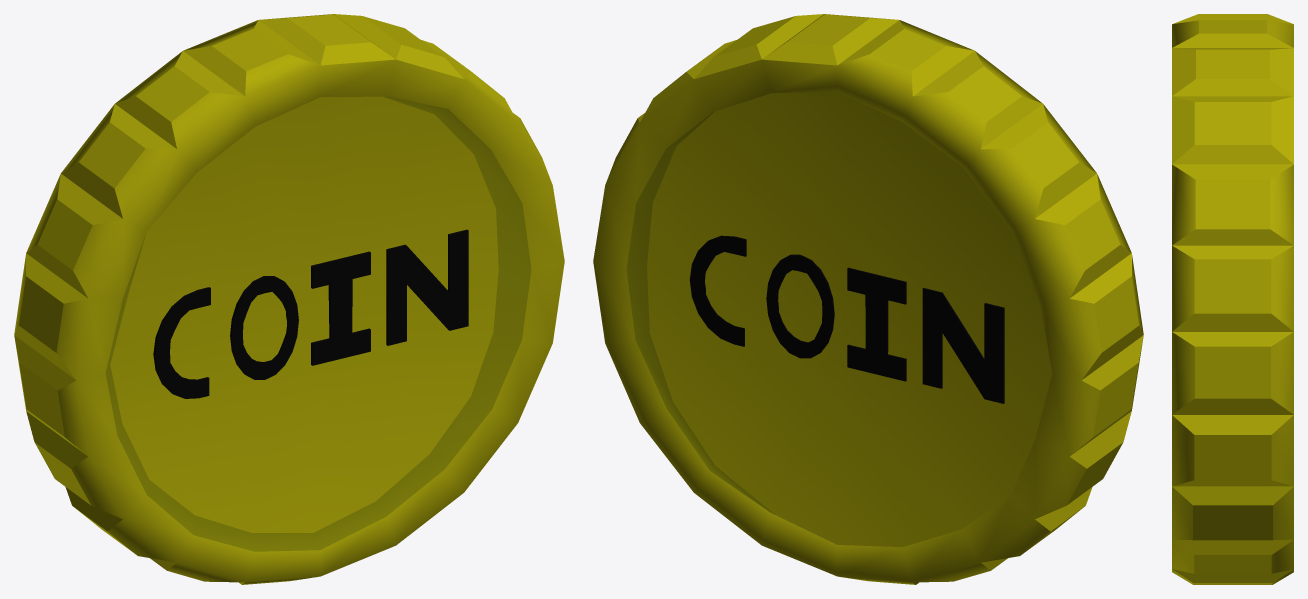
The model's file is coin v3.fbx.
3 renders of one model, left to right at view 1: azimuth 30°, elevation 25°; view 2: azimuth 150°, elevation 25°; view 3: azimuth 270°, elevation 25°, orthographic. The views are drawn at different scales.
Visible parts, largest first — view 1: coin2; view 2: coin2; view 3: coin2.
Part boxes in pixels (x1,y1,x2,y2): coin2: (14,14,564,584); coin2: (593,14,1143,584); coin2: (1172,14,1293,584).
Bounding box in the file's own units: 336 × 334 × 71.61.
